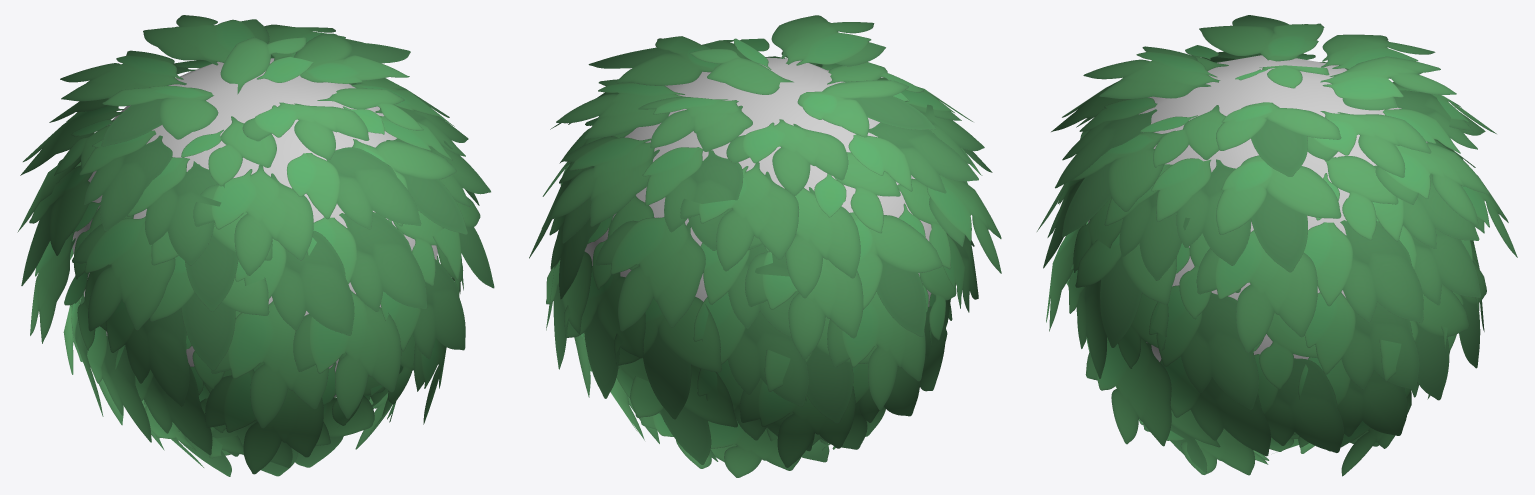
Rendered from BushSphere2.fbx.
The picture shows the model from 3 angles, left to right: view 1: azimuth 30°, elevation 25°; view 2: azimuth 150°, elevation 25°; view 3: azimuth 270°, elevation 25°; orthographic projection.
Visible parts, largest first — view 1: Cube.037; view 2: Cube.037; view 3: Cube.037.
Boxes of the visible parts, left/top/right/bottom form: Cube.037: left=17, top=15, right=494, bottom=476; Cube.037: left=529, top=15, right=1001, bottom=477; Cube.037: left=1037, top=15, right=1517, bottom=476.
Size of the model in its own units: 170 by 153 by 169.
